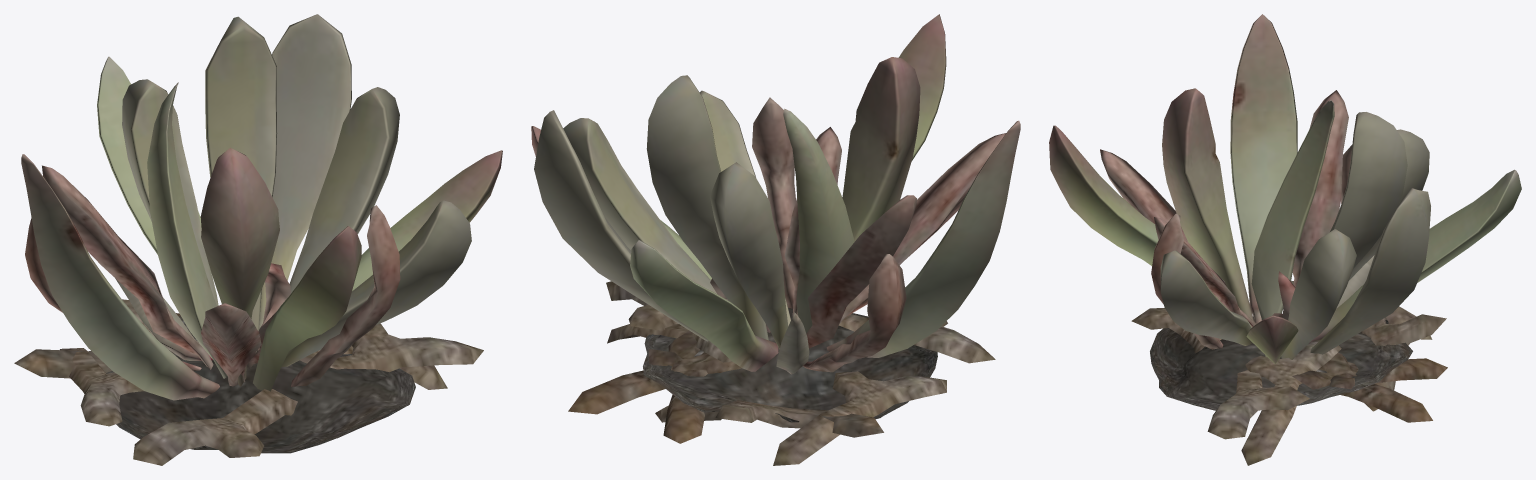
Rendered from cheiridopsis_succulent_c.gltf.
The picture shows the model from 3 angles, left to right: view 1: azimuth 30°, elevation 25°; view 2: azimuth 150°, elevation 25°; view 3: azimuth 270°, elevation 25°; orthographic projection. The views are drawn at different scales.
Visible parts, largest first — view 1: cheiridopsis_succulent_b_LOD0; view 2: cheiridopsis_succulent_b_LOD0; view 3: cheiridopsis_succulent_b_LOD0.
Part boxes in pixels (box(x1,y1,x2,y2)): cheiridopsis_succulent_b_LOD0: box(14, 14, 502, 465); cheiridopsis_succulent_b_LOD0: box(531, 14, 1020, 465); cheiridopsis_succulent_b_LOD0: box(1049, 14, 1521, 465).
Bounding box in the file's own units: 0.2428 × 0.167 × 0.2402.
1 material, 1 textured.
